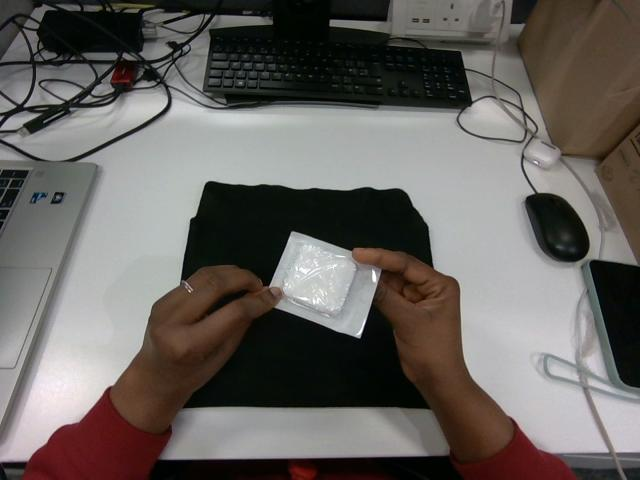gauze: (271, 232, 379, 337)
